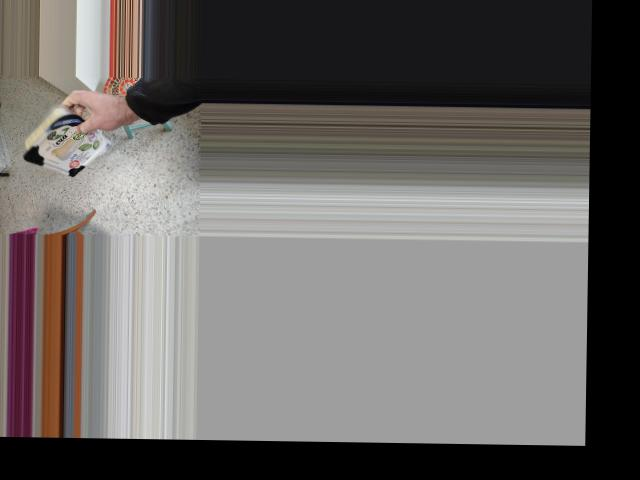cheese: (22, 81, 102, 187)
